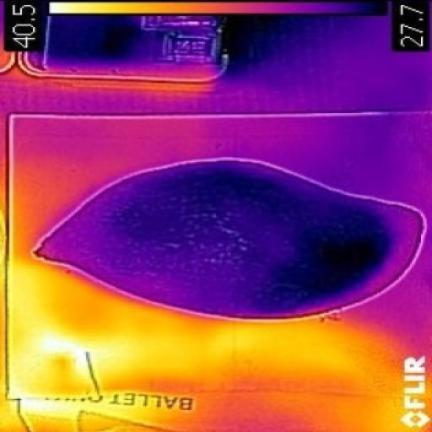mango: (33, 160, 419, 319)
